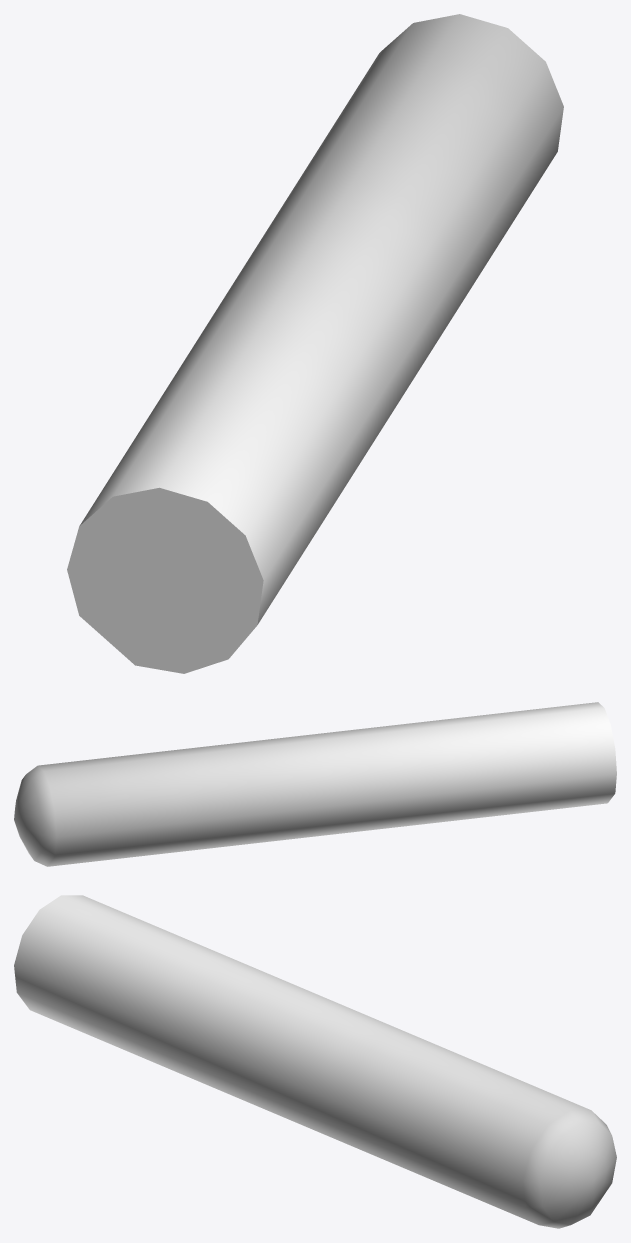
Rendered from Chalk.fbx.
The picture shows the model from 3 angles, top to bottom: view 1: azimuth 30°, elevation 25°; view 2: azimuth 150°, elevation 25°; view 3: azimuth 270°, elevation 25°; orthographic projection. The views are drawn at different scales.
Parts seen in each view (by area): view 1: Chalk; view 2: Chalk; view 3: Chalk.
Boxes of the visible parts, x1=… form: Chalk: x1=67, y1=14, x2=563, y2=673; Chalk: x1=14, y1=702, x2=616, y2=866; Chalk: x1=14, y1=895, x2=616, y2=1228.
Size of the model in its own units: 0.8872 by 0.1846 by 0.8872.
